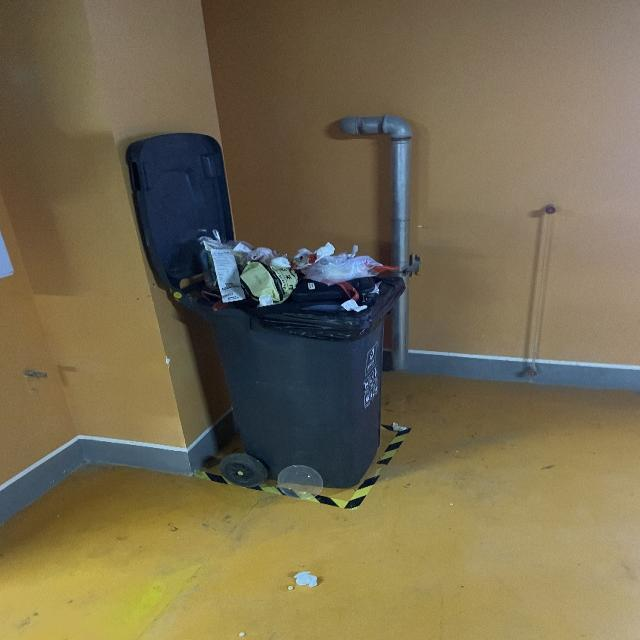overflow: (172, 228, 405, 491)
